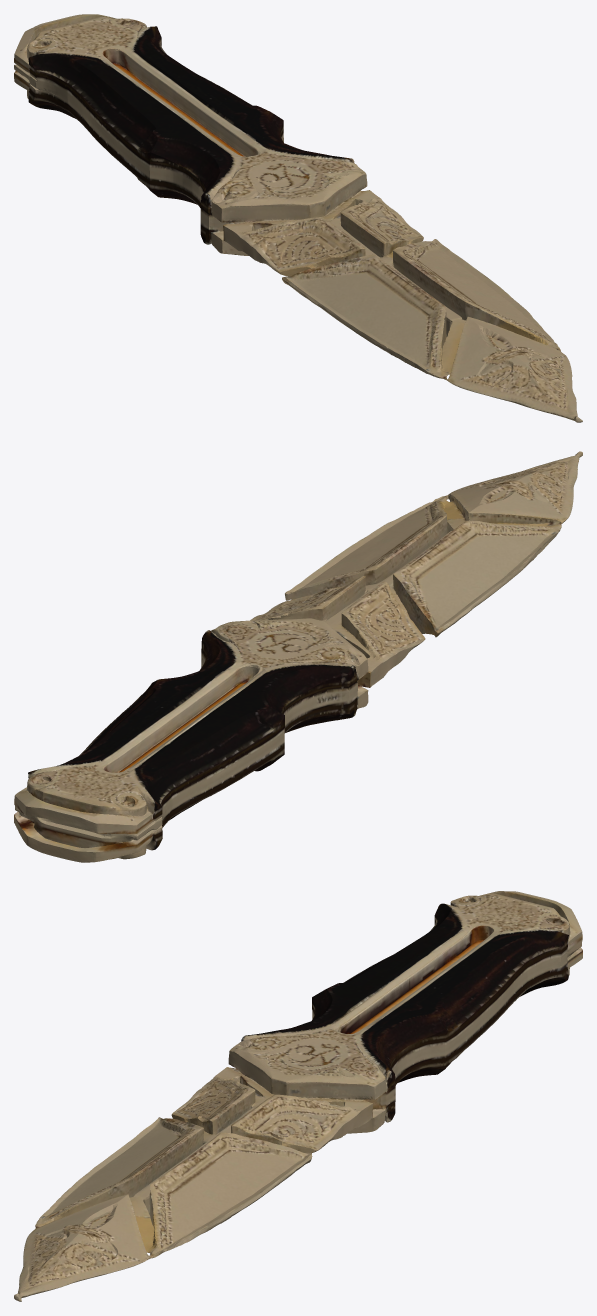
Rendered from ornate+dagger+3d+model.glb.
3 views of the same model, one above another, from view 1: azimuth 30°, elevation 25°; view 2: azimuth 150°, elevation 25°; view 3: azimuth 330°, elevation 25° (orthographic).
Parts seen in each view (by area): view 1: tripo_node_8bead7cf-0790-4a8c-8d24-4270456a1270; view 2: tripo_node_8bead7cf-0790-4a8c-8d24-4270456a1270; view 3: tripo_node_8bead7cf-0790-4a8c-8d24-4270456a1270.
Part boxes in pixels (x1,y1,x2,y2): tripo_node_8bead7cf-0790-4a8c-8d24-4270456a1270: [14, 14, 582, 422]; tripo_node_8bead7cf-0790-4a8c-8d24-4270456a1270: [14, 451, 582, 862]; tripo_node_8bead7cf-0790-4a8c-8d24-4270456a1270: [14, 891, 582, 1301].
Size of the model in its own units: 0.173 by 0.0622 by 1.
